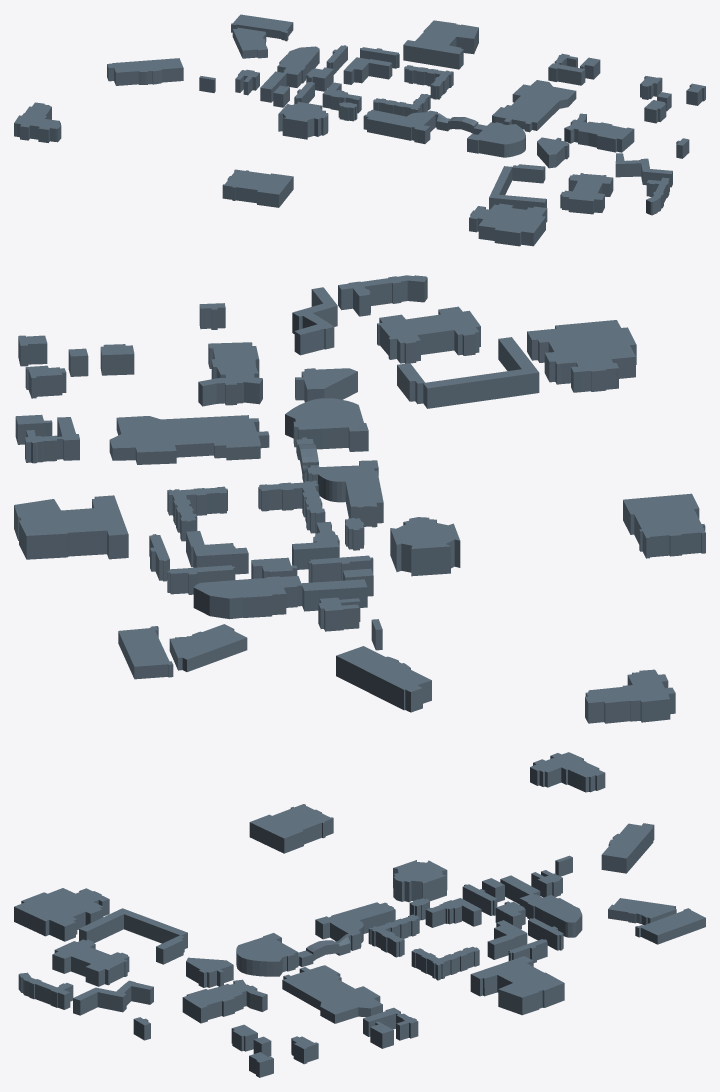
The model's file is floor-tweetsburg-half.glb.
The picture shows the model from 3 angles, top to bottom: view 1: azimuth 30°, elevation 25°; view 2: azimuth 150°, elevation 25°; view 3: azimuth 270°, elevation 25°; orthographic projection. The views are drawn at different scales.
Visible parts, largest first — view 1: Cube.020, Cube.001, Cube.037, Cube.022, Cube.015, Cube.016, Cube.013, Cube.005, Cube.026, Cube.000, Cube.021, Cube.018 (+19 smaller); view 2: Cube.037, Cube.020, Cube.001, Cube.026, Cube.015, Cube.013, Cube.012, Cube.022, Cube.016, Cube.018, Cube.000, Cube.021 (+22 smaller); view 3: Cube.001, Cube.020, Cube.037, Cube.022, Cube.015, Cube.013, Cube.005, Cube.026, Cube.018, Cube.000, Cube.012, Cube.021 (+21 smaller).
Part boxes in pixels (x1,y1,x2,y2): Cube.020: (469,203,547,246); Cube.001: (403,20,478,69); Cube.037: (492,80,576,132); Cube.022: (363,109,486,143); Cube.015: (222,169,293,207); Cube.016: (107,58,183,85); Cube.013: (560,173,613,214); Cube.005: (564,113,634,152); Cube.026: (260,46,319,102); Cube.000: (467,122,525,157); Cube.021: (278,101,328,139); Cube.018: (14,102,61,142); Cube.037: (109,415,269,464); Cube.020: (527,320,636,392); Cube.001: (14,495,128,559); Cube.026: (193,576,367,619); Cube.015: (623,493,705,558); Cube.013: (377,306,480,363); Cube.012: (423,337,539,408); Cube.022: (296,437,383,527); Cube.016: (336,646,431,712); Cube.018: (585,669,675,723); Cube.000: (285,398,368,451); Cube.021: (390,517,460,576); Cube.001: (470,956,564,1015); Cube.020: (14,888,109,941); Cube.037: (282,965,382,1023); Cube.022: (298,902,395,966); Cube.015: (249,804,333,853); Cube.013: (52,939,129,986); Cube.005: (182,979,267,1023); Cube.026: (500,875,582,937); Cube.018: (530,752,605,792); Cube.000: (236,933,298,976); Cube.012: (79,908,187,948); Cube.021: (393,860,447,902).
Size of what is drawn, in the model's own units: 25.74 by 0.7771 by 24.22.
